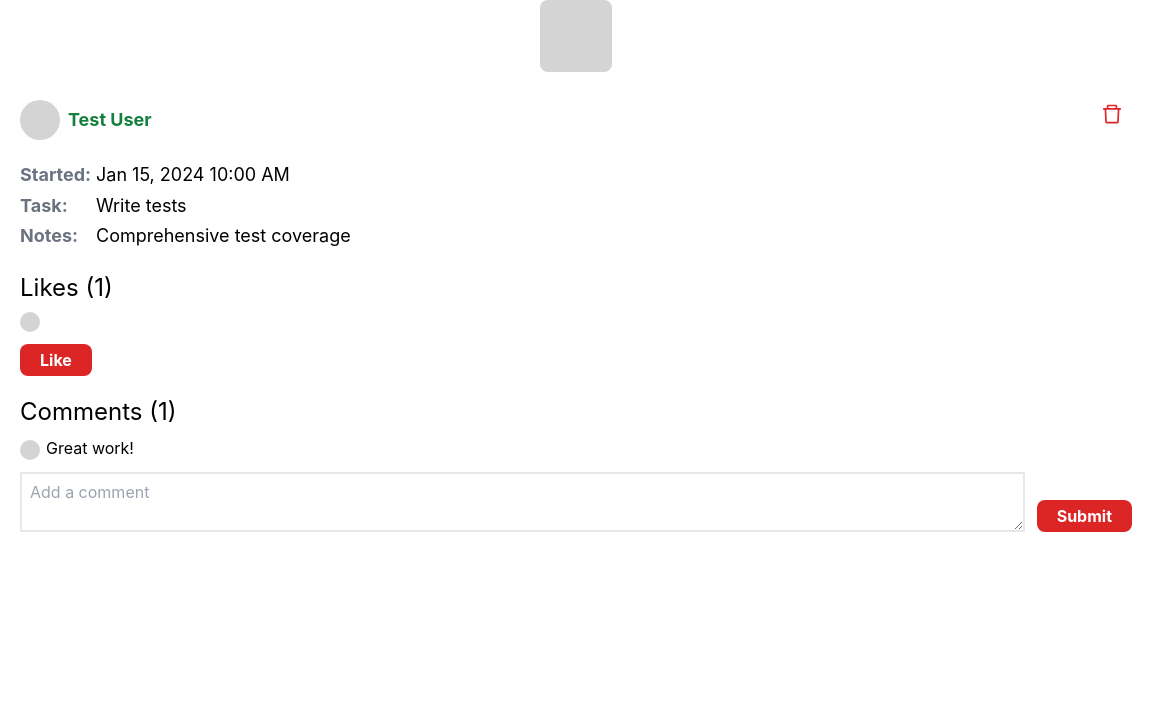
it: DoroDetail › Image handling › should open modal when clicking image
The image size is (1152, 720).
Click the button with alt text "user-post".
click(576, 36)  # box 0,0 -> 1151,72
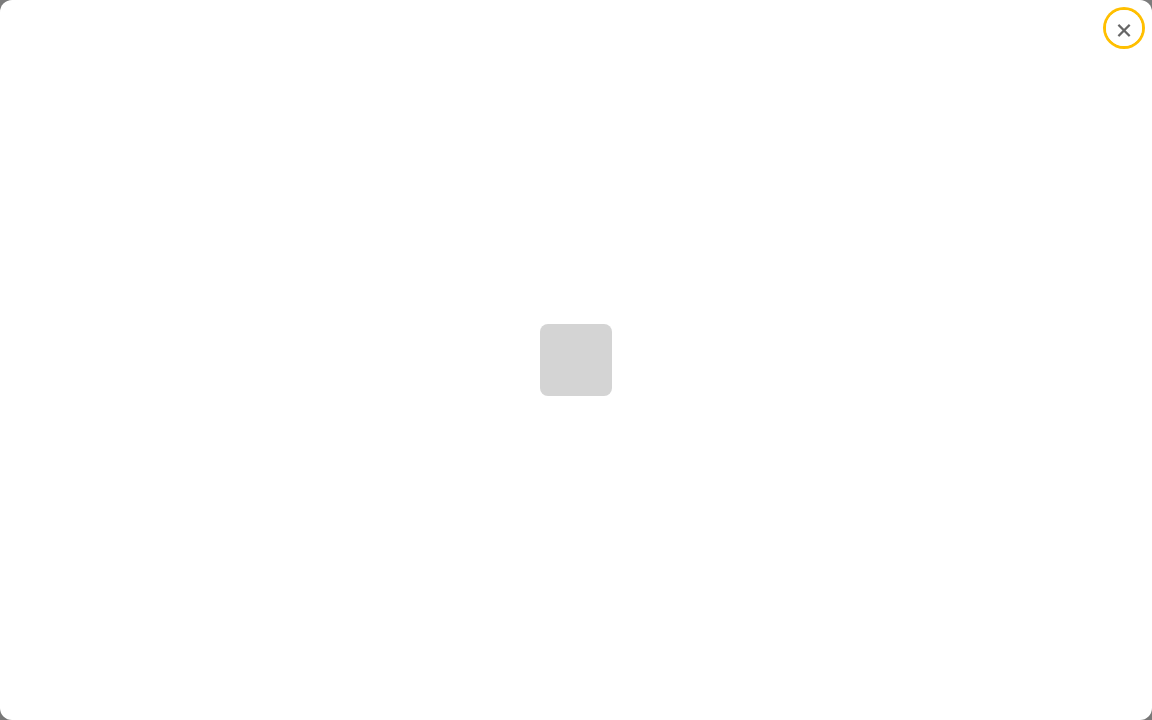
Expected: the dialog is shown
